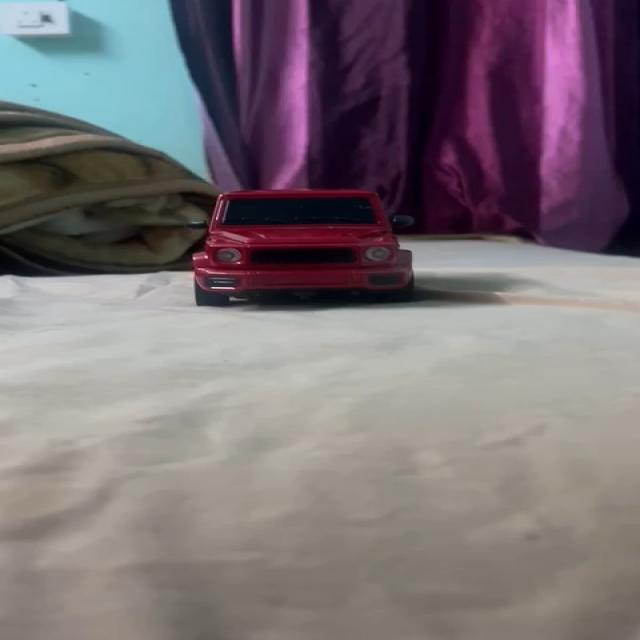light_vehicle: (181, 186, 423, 296)
